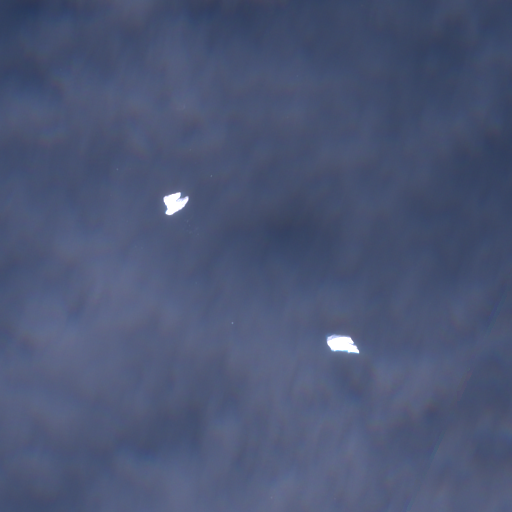Iceberg: (327, 334, 359, 353), (163, 192, 188, 215), (116, 168, 117, 169)
